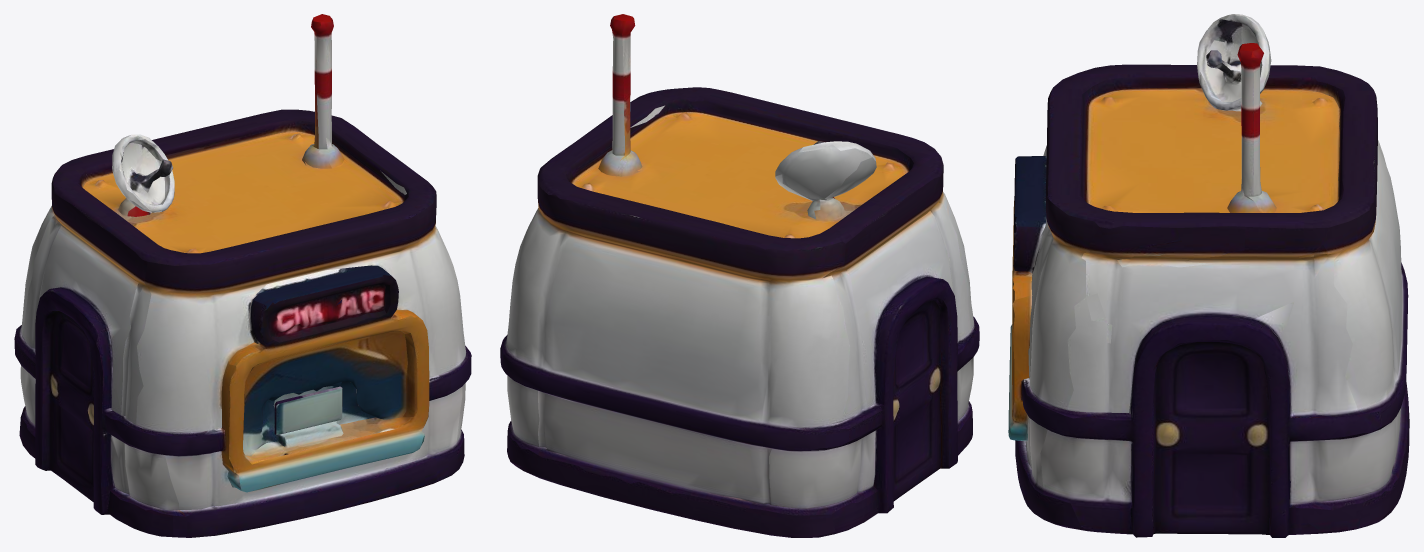
The model's file is radio_station.glb.
3 renders of one model, left to right at view 1: azimuth 30°, elevation 25°; view 2: azimuth 150°, elevation 25°; view 3: azimuth 270°, elevation 25°, orthographic. The views are drawn at different scales.
Parts seen in each view (by area): view 1: radio_station; view 2: radio_station; view 3: radio_station.
Part boxes in pixels (x1,y1,x2,y2): radio_station: (14, 14, 471, 537); radio_station: (500, 14, 979, 537); radio_station: (1008, 14, 1409, 537).
Size of the model in its own units: 0.9247 by 1 by 0.8085.
1 material, 1 textured.
